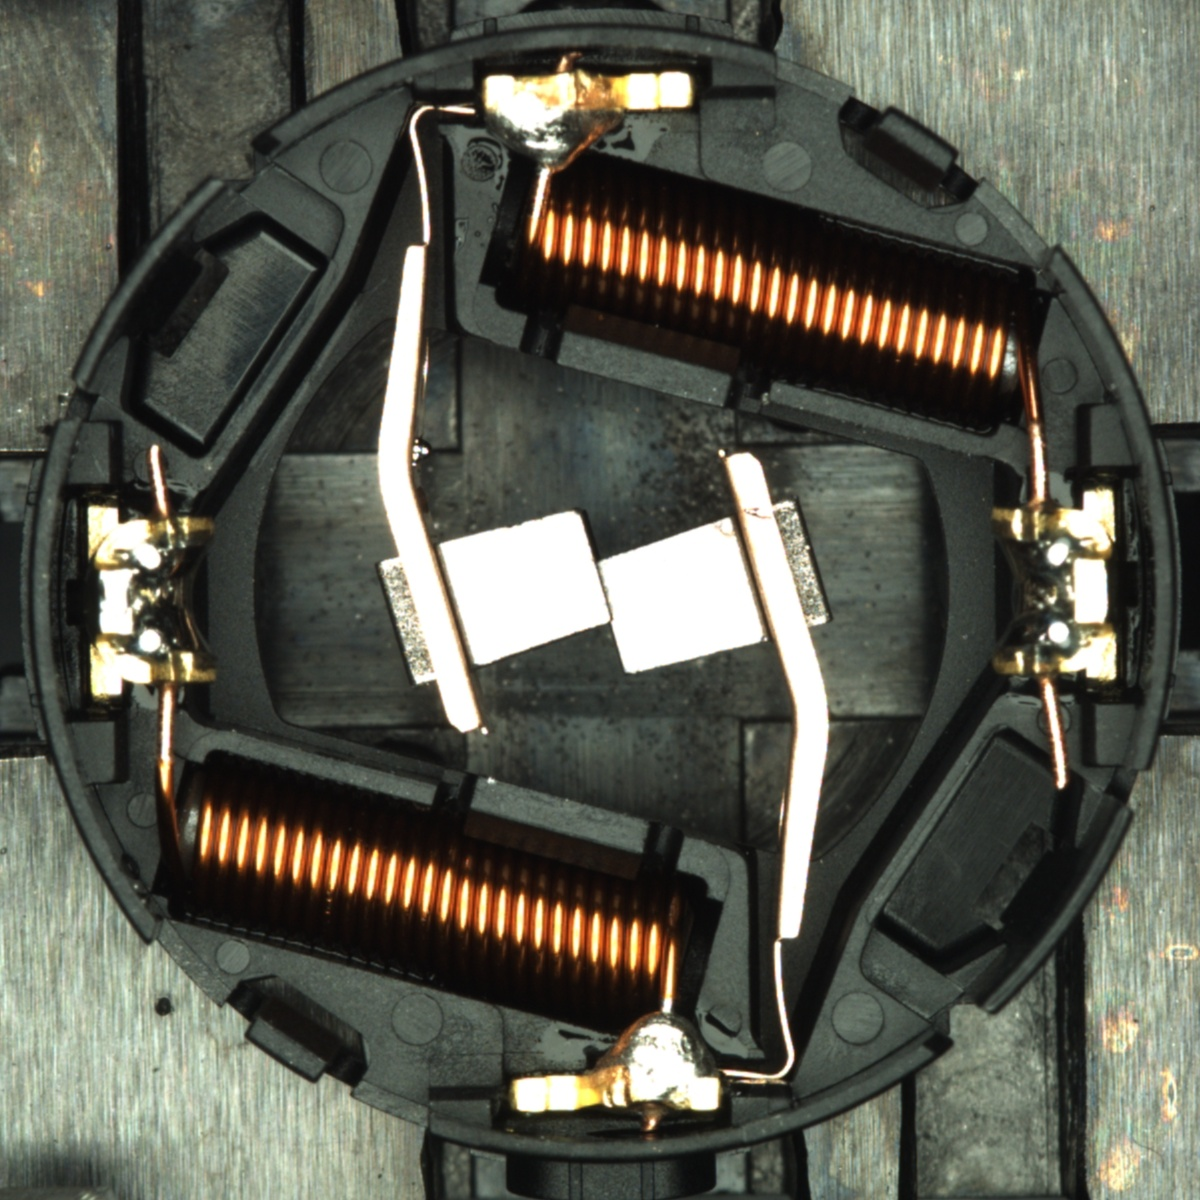1: (262, 31, 491, 255), (721, 929, 950, 1153)
2: (721, 31, 950, 255), (262, 929, 491, 1153)
3: (33, 255, 262, 480), (950, 704, 1179, 929)
4: (262, 255, 491, 480), (721, 704, 950, 929)
5: (491, 143, 721, 368), (491, 816, 721, 1041)
6: (721, 255, 950, 480), (262, 704, 491, 929)
7: (950, 255, 1179, 480), (33, 704, 262, 929)
cacbon: (401, 497, 811, 687)
chau_dien: (80, 501, 220, 702), (984, 484, 1122, 687)
hat_chi: (409, 437, 434, 464)
tay_choi: (508, 1010, 725, 1115), (482, 71, 696, 175)
thanh_de: (958, 788, 1143, 1029), (56, 167, 240, 407)
vun_chi: (408, 438, 434, 465)
